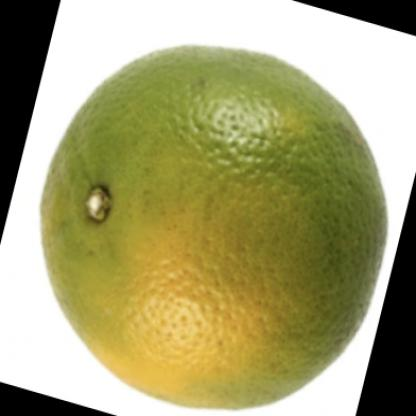orange: (33, 41, 396, 403)
